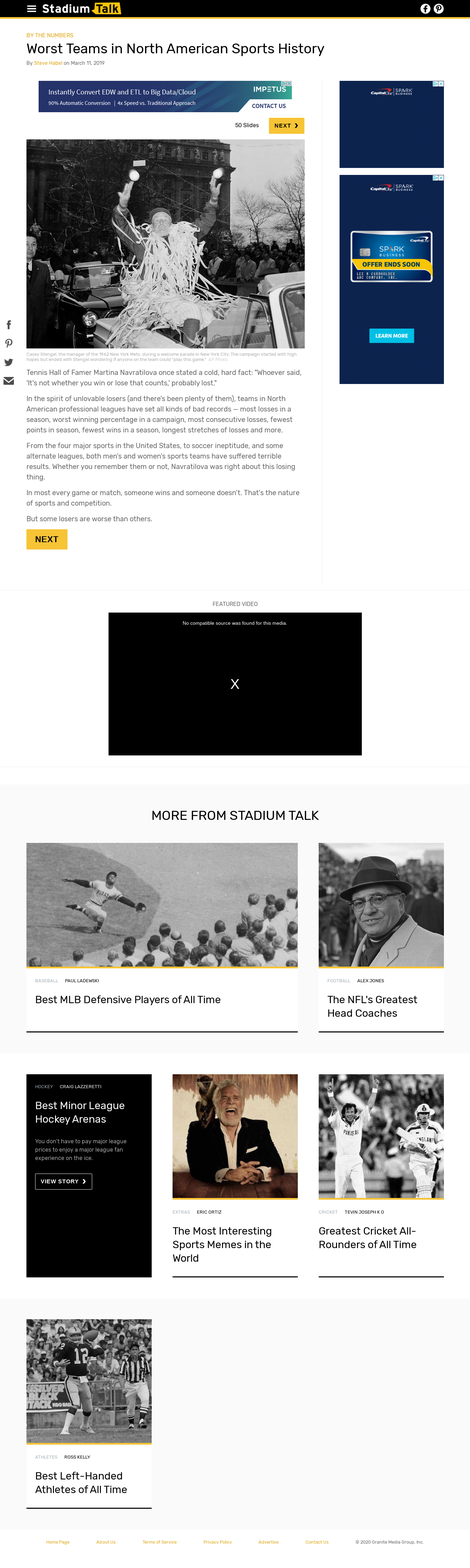fake_button: (361, 320, 428, 359), (18, 524, 85, 554)
